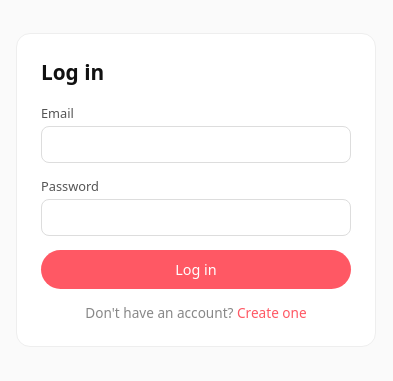
Scenario: Login › shows the error and stays on the page when login fails
Type "user@example.com" into the field labelled "Email" at (196, 144), box 41,126 -> 351,163
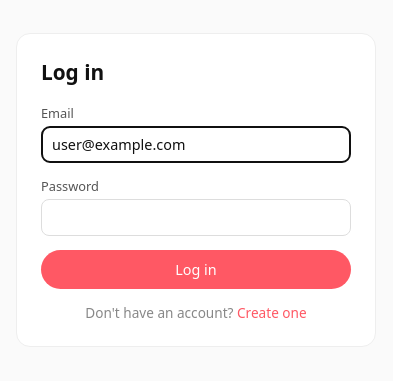
Type "wrong-password" into the password field labelled "Password" at (196, 218), box 41,199 -> 351,236
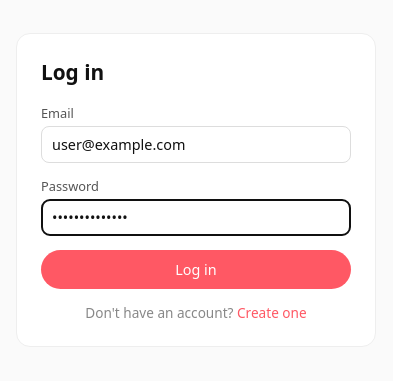
Click the button "Log in" at (196, 270), box 41,250 -> 351,289
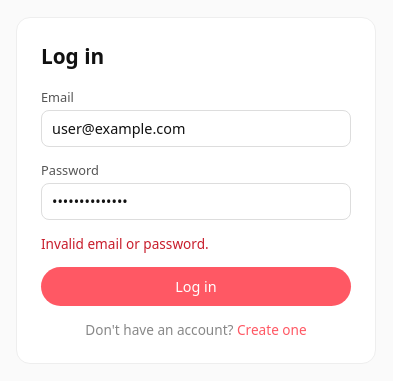
Check: the message reads "Invalid email or password.", box 41,234 -> 209,252
